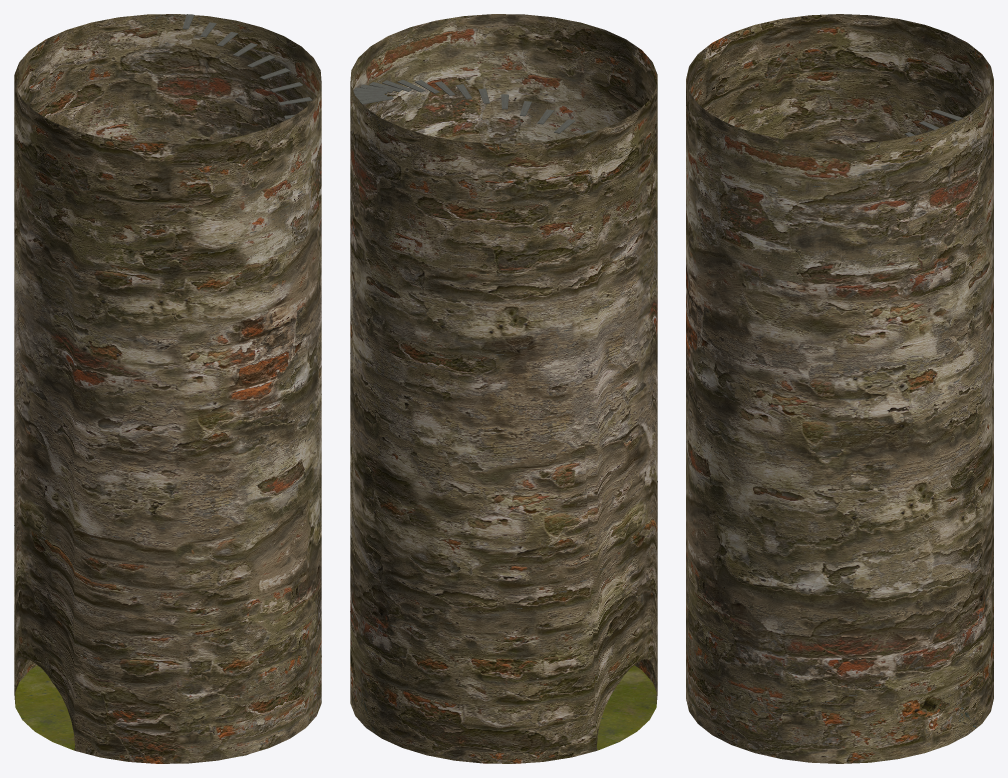
File: TutorialToStage01.fbx
The picture shows the model from 3 angles, left to right: view 1: azimuth 30°, elevation 25°; view 2: azimuth 150°, elevation 25°; view 3: azimuth 270°, elevation 25°; orthographic projection.
Parts seen in each view (by area): view 1: StairBody, Floor, StairStep; view 2: StairBody, Floor, StairStep; view 3: StairBody, StairStep.
Boxes of the visible parts, x1,y1,x2,y2 form: StairBody: (14, 14, 321, 763); Floor: (15, 665, 75, 750); StairStep: (14, 14, 321, 756); StairBody: (350, 14, 657, 763); Floor: (596, 665, 656, 750); StairStep: (350, 79, 657, 627); StairBody: (686, 14, 993, 763); StairStep: (686, 109, 992, 713).
Size of the model in its own units: 18 by 40.04 by 18.
